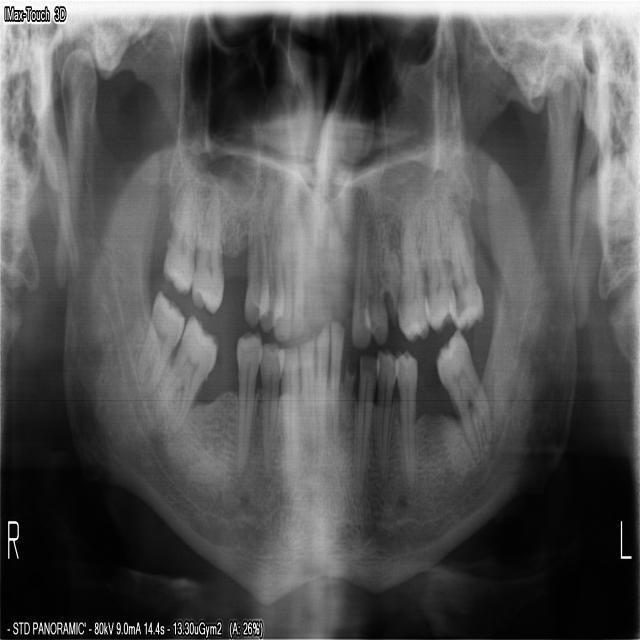LCD: (353, 350, 374, 496)
LCU: (349, 197, 371, 350)
LID: (328, 318, 344, 446)
LIU: (309, 182, 331, 323)
LMD: (433, 328, 491, 461)
LMU: (395, 193, 429, 346), (447, 190, 483, 333), (421, 192, 455, 334)
LPMD: (393, 346, 417, 493), (374, 343, 394, 486)
RCD: (277, 343, 299, 478)
RID: (297, 335, 316, 453), (315, 324, 328, 447)
RIU: (270, 200, 289, 340), (288, 195, 306, 338)
RMD: (158, 311, 218, 435), (133, 289, 184, 396)
RMU: (160, 162, 200, 296), (188, 176, 223, 315)
RPMD: (233, 328, 259, 480), (256, 338, 277, 469)
RPMU: (241, 189, 269, 328)
